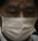with_mask: (1, 2, 38, 41)
